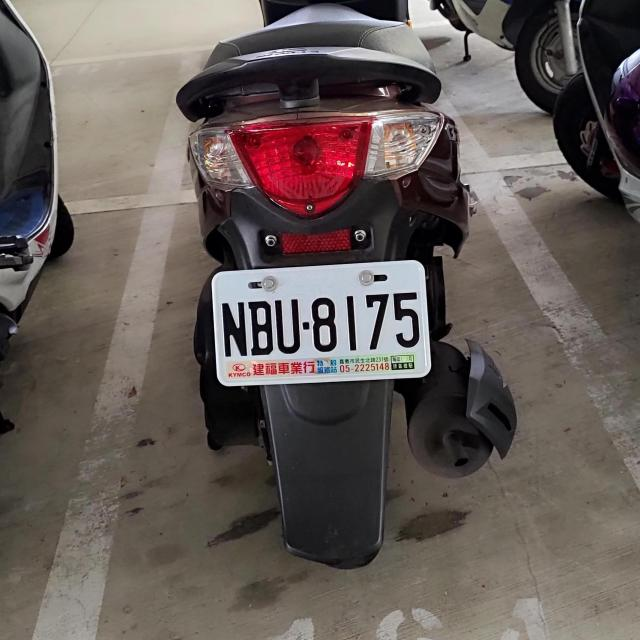W: (211, 260, 430, 384)
